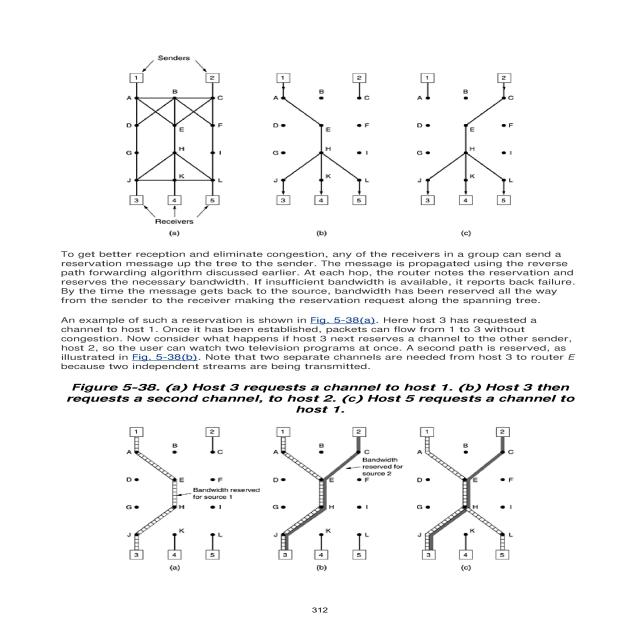diagram: (49, 383, 596, 578), (95, 48, 557, 247)
